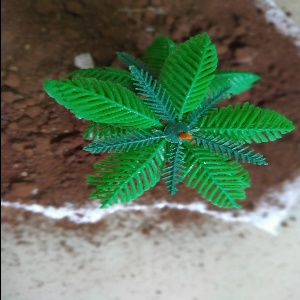plant: (58, 42, 261, 203)
